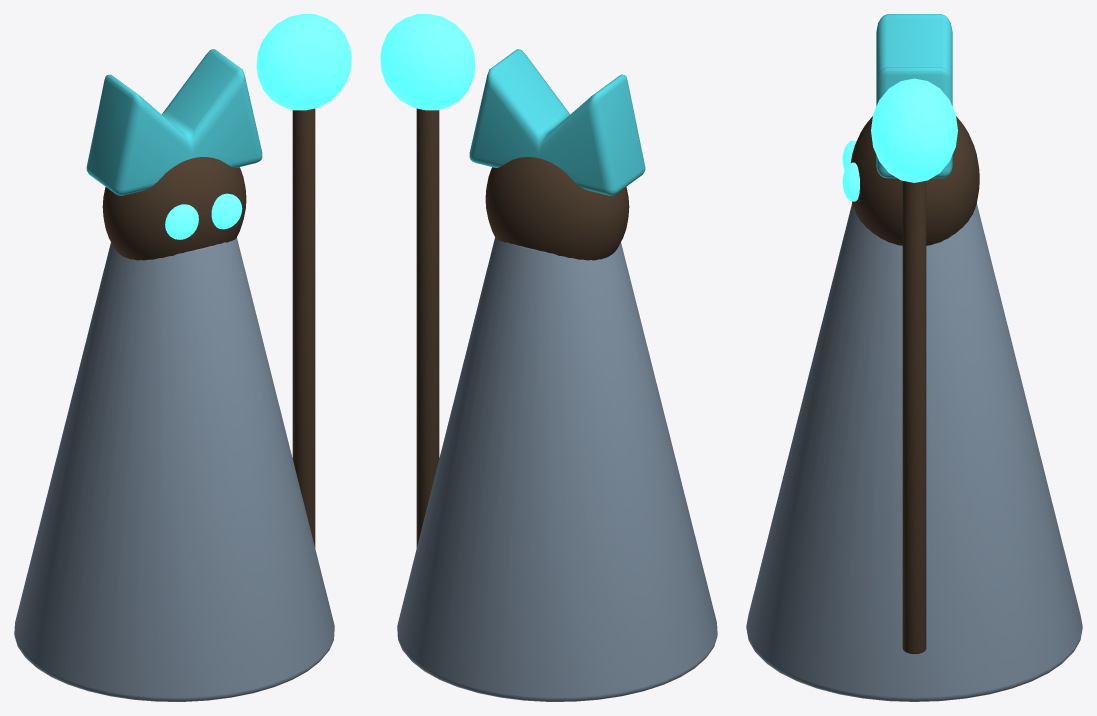
The model's file is undead_v5.glb.
3 renders of one model, left to right at view 1: azimuth 30°, elevation 25°; view 2: azimuth 150°, elevation 25°; view 3: azimuth 270°, elevation 25°, orthographic. The views are drawn at different scales.
Visible parts, largest first — view 1: LICH_ROBE_PRIMARY, LICH_CROWN_ACCENT, LICH_STAFF_SECONDARY, LICH_SKULL_SECONDARY, LICH_ORB_EMISSIVE, EYE_EMISSIVE, EYE_EMISSIVE.001; view 2: LICH_ROBE_PRIMARY, LICH_CROWN_ACCENT, LICH_SKULL_SECONDARY, LICH_STAFF_SECONDARY, LICH_ORB_EMISSIVE; view 3: LICH_ROBE_PRIMARY, LICH_STAFF_SECONDARY, LICH_SKULL_SECONDARY, LICH_ORB_EMISSIVE, LICH_CROWN_ACCENT, EYE_EMISSIVE.001.
Boxes of the visible parts, x1,y1,x2,y2 form: LICH_ROBE_PRIMARY: (14, 237, 334, 701); LICH_CROWN_ACCENT: (86, 49, 262, 195); LICH_STAFF_SECONDARY: (292, 108, 315, 547); LICH_SKULL_SECONDARY: (102, 157, 246, 260); LICH_ORB_EMISSIVE: (256, 14, 351, 110); EYE_EMISSIVE: (165, 204, 198, 239); EYE_EMISSIVE.001: (211, 193, 242, 229); LICH_ROBE_PRIMARY: (397, 237, 717, 701); LICH_CROWN_ACCENT: (469, 49, 645, 195); LICH_SKULL_SECONDARY: (485, 157, 629, 260); LICH_STAFF_SECONDARY: (416, 108, 439, 547); LICH_ORB_EMISSIVE: (380, 14, 475, 110); LICH_ROBE_PRIMARY: (746, 203, 1082, 701); LICH_STAFF_SECONDARY: (902, 181, 926, 653); LICH_SKULL_SECONDARY: (850, 116, 979, 245); LICH_ORB_EMISSIVE: (871, 78, 957, 182); LICH_CROWN_ACCENT: (876, 14, 952, 178); EYE_EMISSIVE.001: (842, 162, 859, 201).
Bounding box in the file's own units: 1.73 × 3.12 × 1.54.
